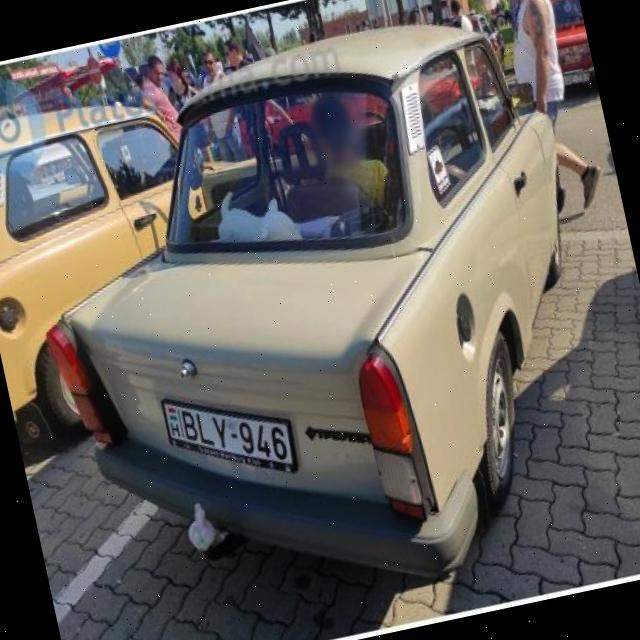licence: (164, 375, 298, 498)
